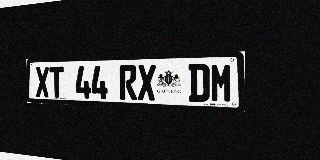4: (91, 66, 108, 99), (75, 66, 91, 99)
D: (188, 63, 210, 102)
M: (210, 63, 233, 103)
R: (119, 65, 137, 100)
T: (49, 66, 64, 98)
X: (138, 65, 156, 101), (35, 67, 49, 97)
